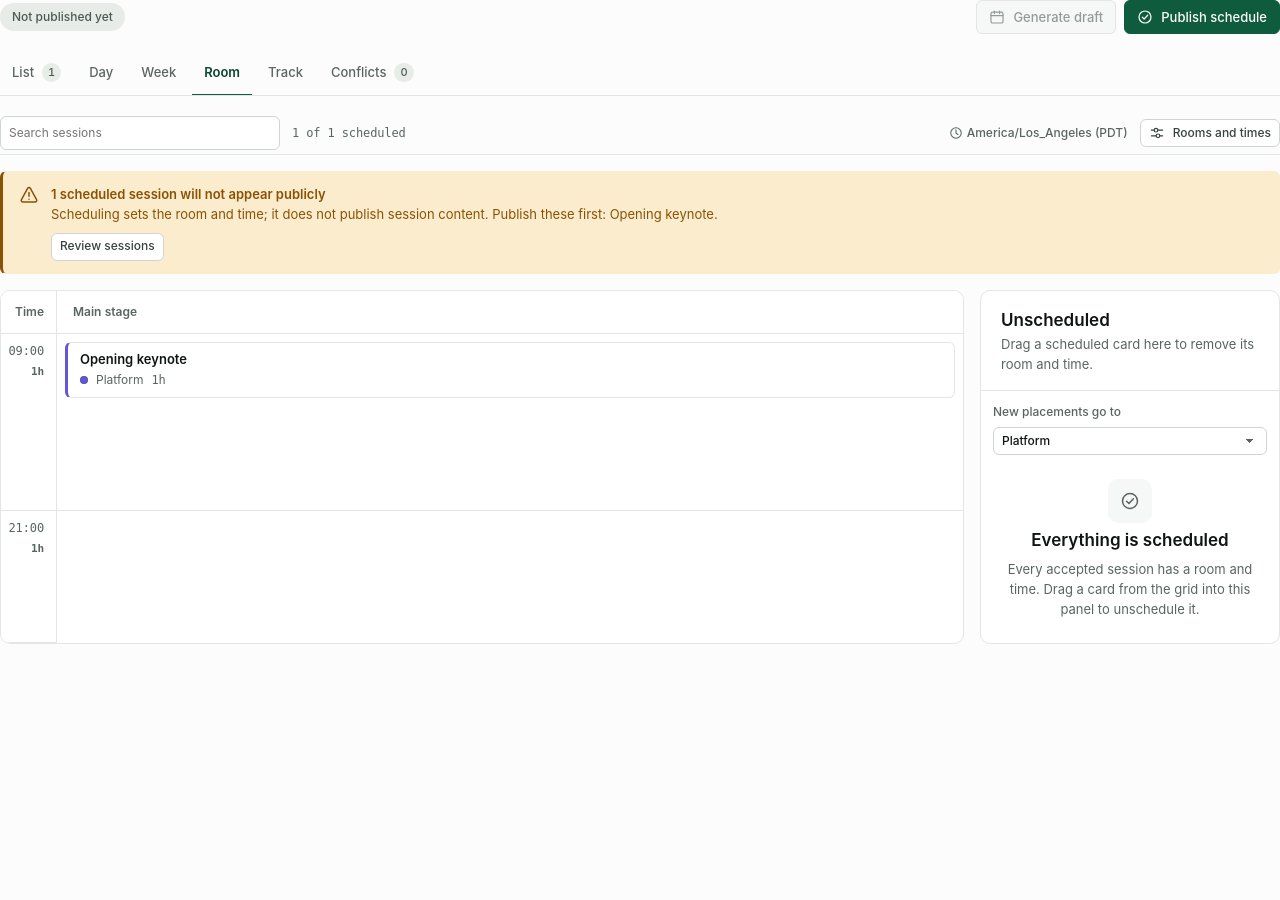
AgendaWorkspace timezone rendering › warns when scheduled session content is not published
The image size is (1280, 900).
Check: the text "1 scheduled session will not appear publicly" is shown, box x1=51 y1=186 x2=326 y2=202
Check: the text "Publish these first: Opening keynote" is shown, box x1=51 y1=206 x2=718 y2=222
Click the button "Publish schedule": {"x": 1202, "y": 17} x1=1124 y1=0 x2=1279 y2=34
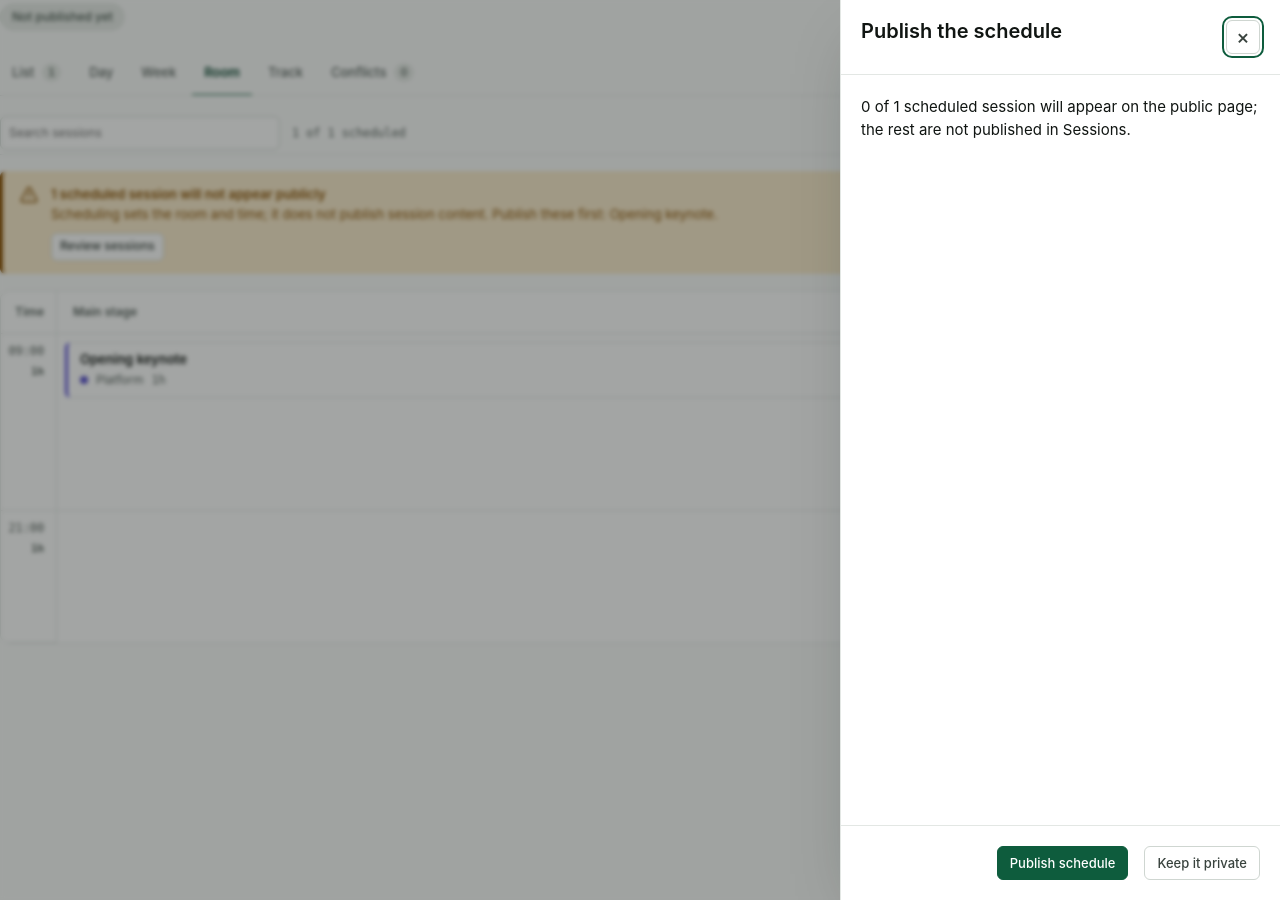
Check: the text "0 of 1 scheduled session will appear on the public page; the rest are not published in Sessions." is shown, box x1=861 y1=97 x2=1258 y2=139
